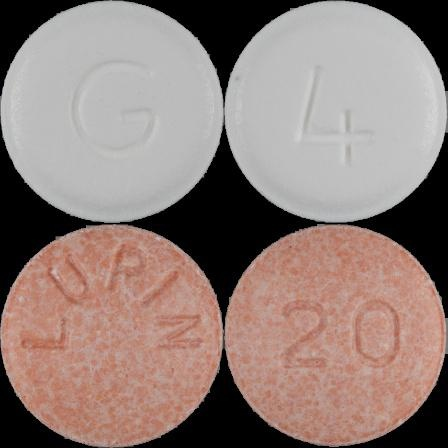63187-256: (0, 0, 224, 224)
